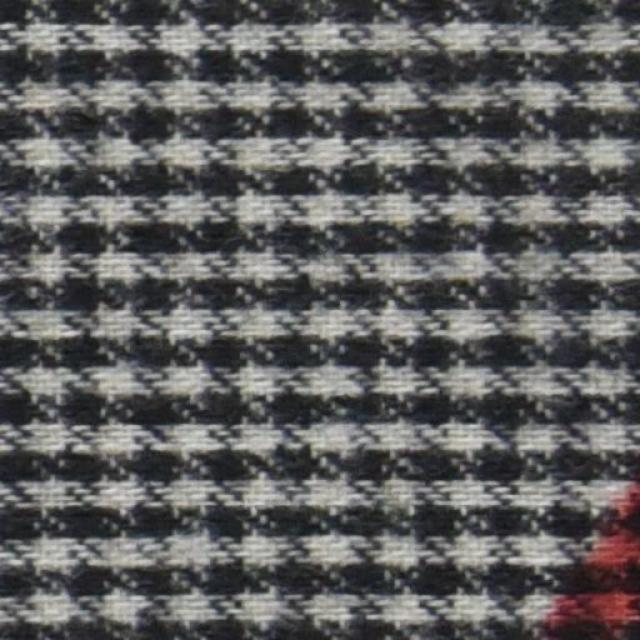Stain: (543, 486, 639, 639)
